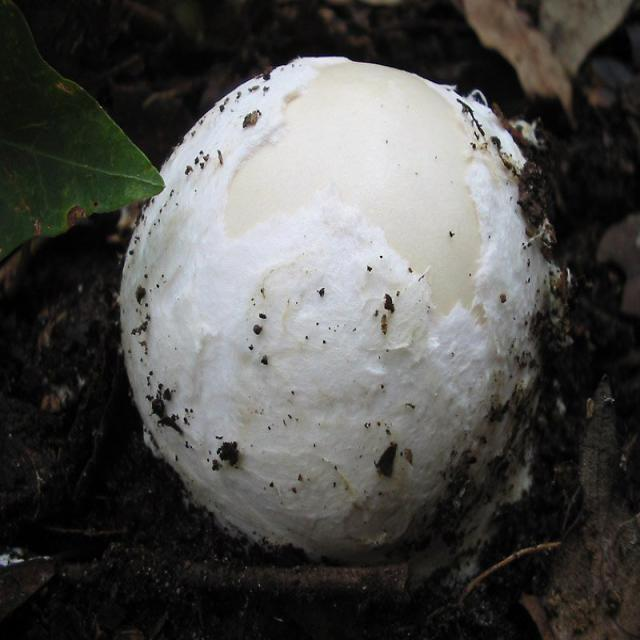Agaricus bisporus: (122, 60, 572, 567)
